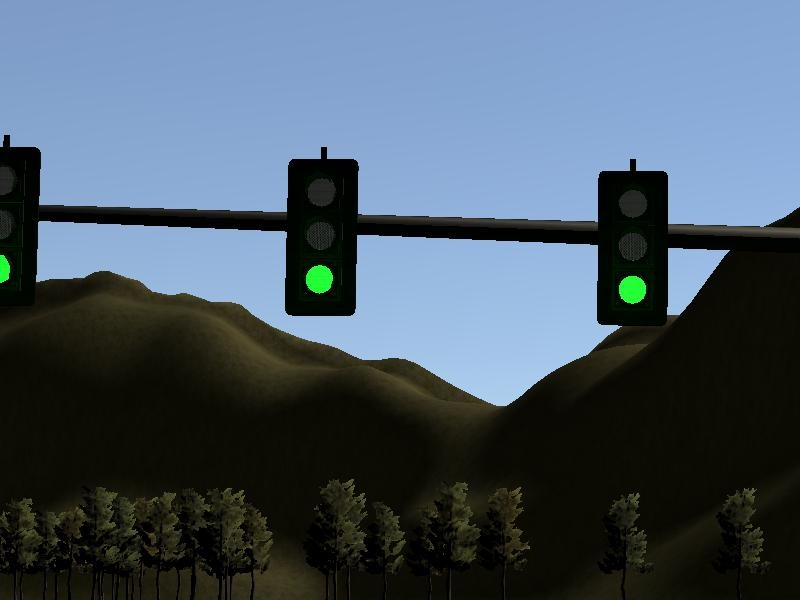GREEN: (286, 158, 359, 318), (596, 169, 669, 329), (1, 147, 41, 305)
